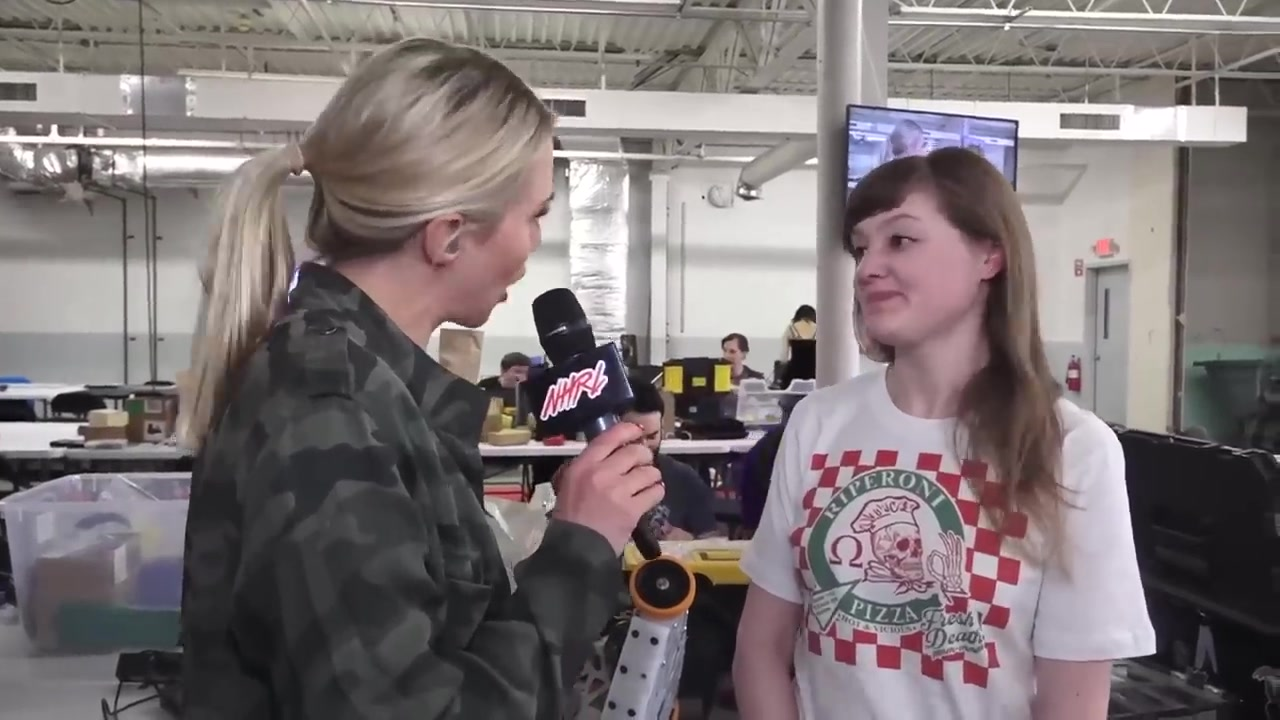combatbot: (596, 555, 697, 719)
